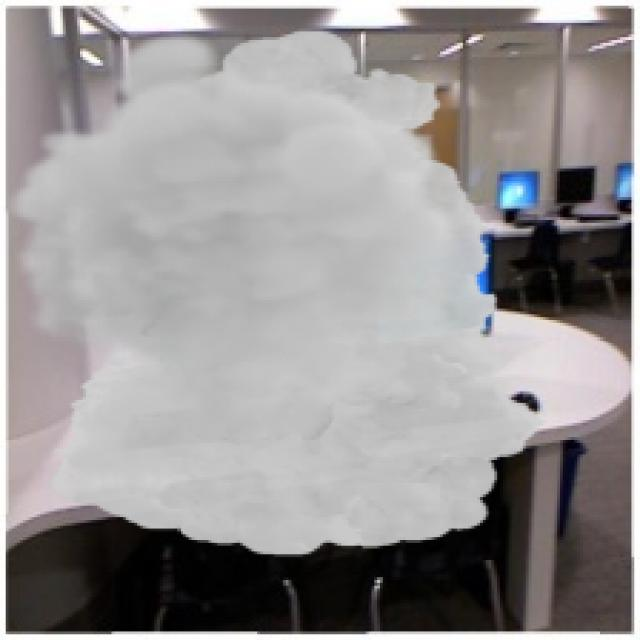smoke: (6, 29, 548, 557)
